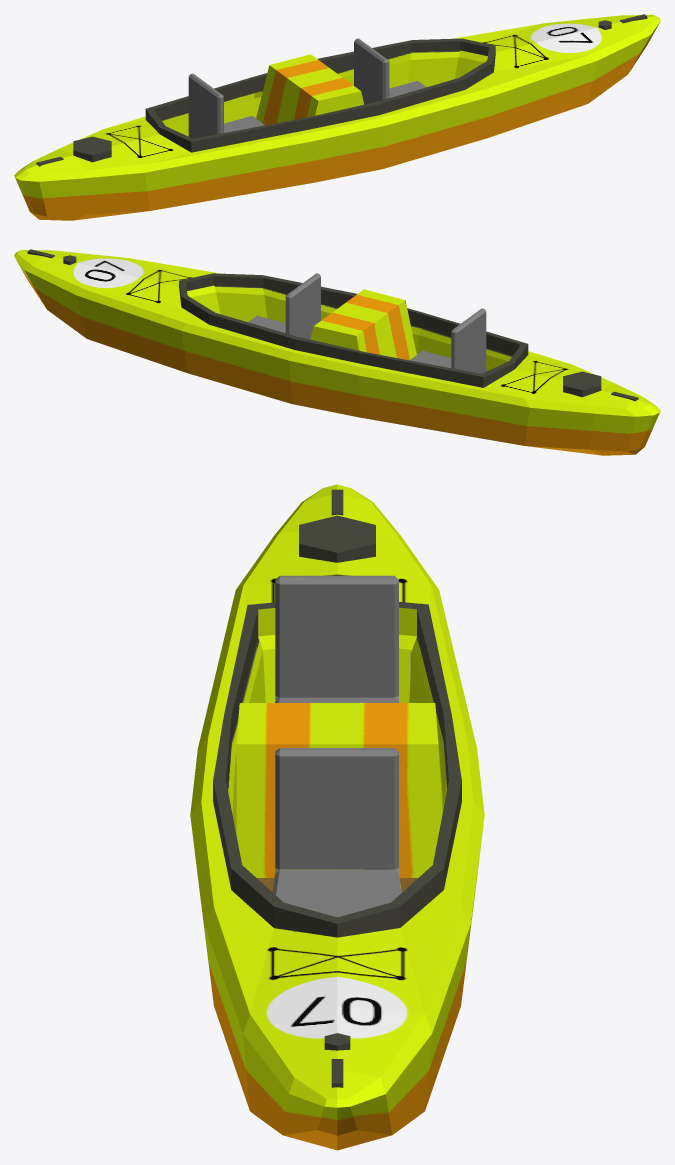
Rendered from kayak_model.fbx.
3 renders of one model, top to bottom at view 1: azimuth 30°, elevation 25°; view 2: azimuth 150°, elevation 25°; view 3: azimuth 270°, elevation 25°, orthographic. The views are drawn at different scales.
Parts seen in each view (by area): view 1: kayak_model; view 2: kayak_model; view 3: kayak_model.
Part boxes in pixels (box(x1,y1,x2,y2)): kayak_model: box(14, 14, 660, 220); kayak_model: box(14, 249, 660, 455); kayak_model: box(190, 484, 484, 1150).
Size of the model in its own units: 781 by 129 by 155.
